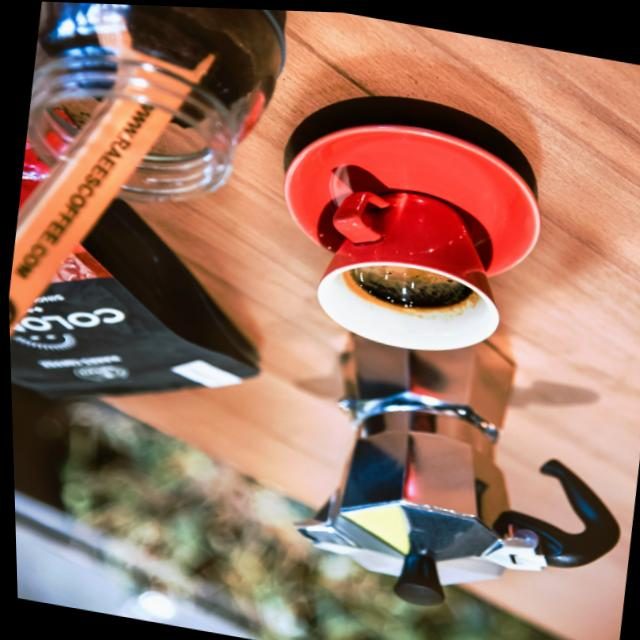drink: (317, 187, 501, 352)
